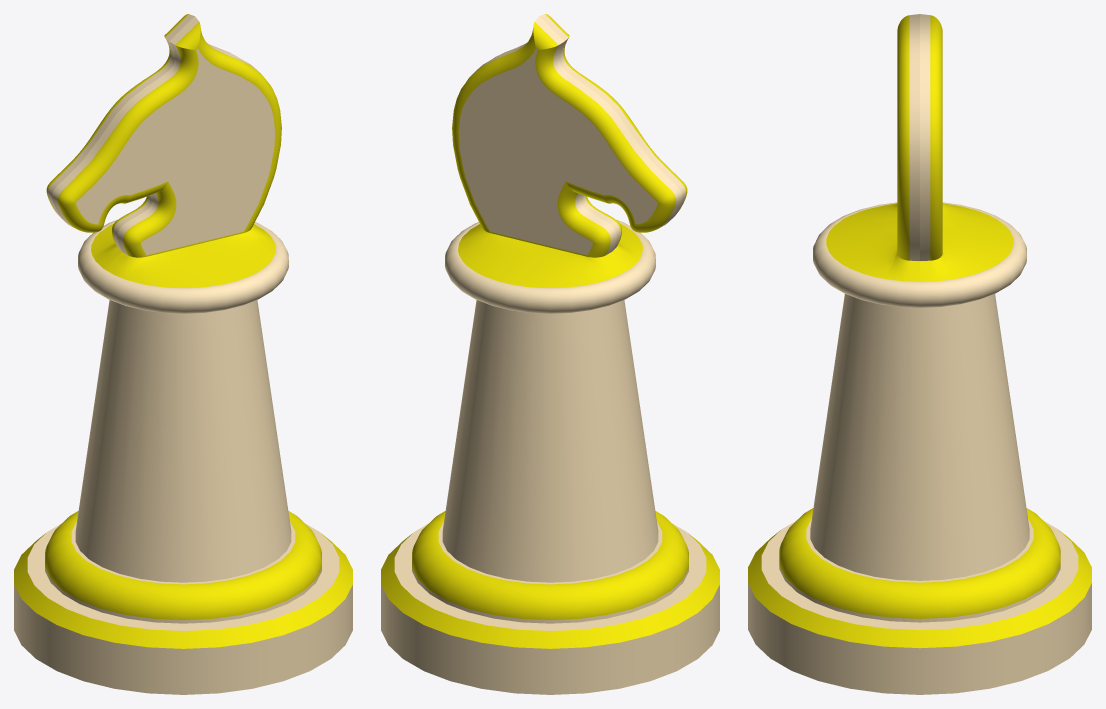
The model's file is Premium_W_Knight.gltf.
3 views of the same model, side by side, from view 1: azimuth 30°, elevation 25°; view 2: azimuth 150°, elevation 25°; view 3: azimuth 270°, elevation 25° (orthographic).
Parts seen in each view (by area): view 1: Knight; view 2: Knight; view 3: Knight.
Part boxes in pixels (<box>): Knight: <box>14,14,352,694</box>; Knight: <box>381,14,719,694</box>; Knight: <box>748,14,1091,694</box>.
Size of the model in its own units: 0.029 by 0.0567 by 0.0288.
